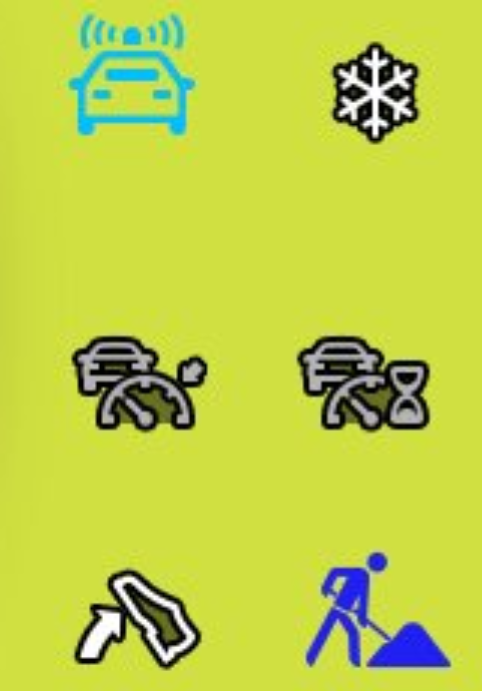ACCELERATOR: (58, 555, 244, 683)
ACC_AKTIV: (52, 304, 223, 446)
ACC_WAITING: (280, 325, 465, 450)
CONSTRUCTION: (300, 530, 463, 682)
EISSTERN: (318, 32, 440, 144)
SEV_INF: (55, 8, 220, 155)
